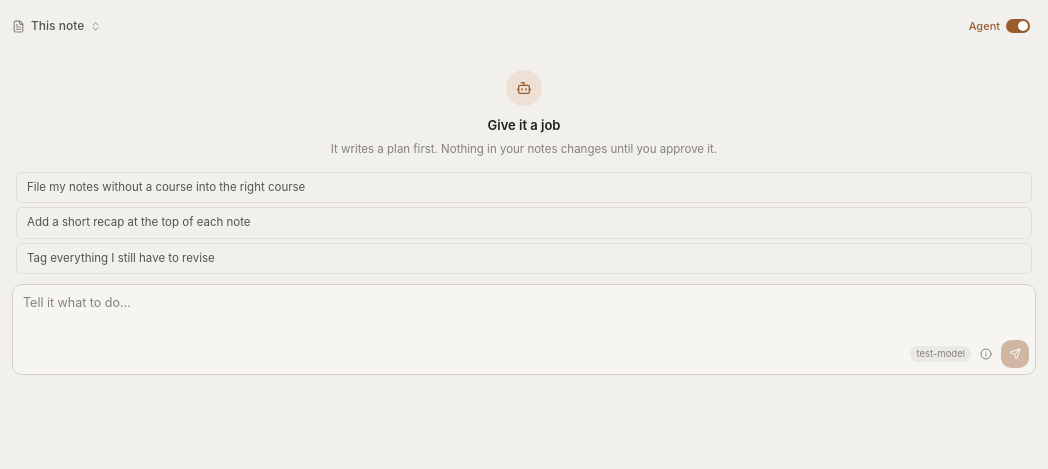
AgentPanel review gate › offers explicit widening when the plan requires the whole library
Type "Create an Environment course" into the text box named "Agent".
click(524, 313); type("Create an Environment course")  # box [19,291,1029,336]
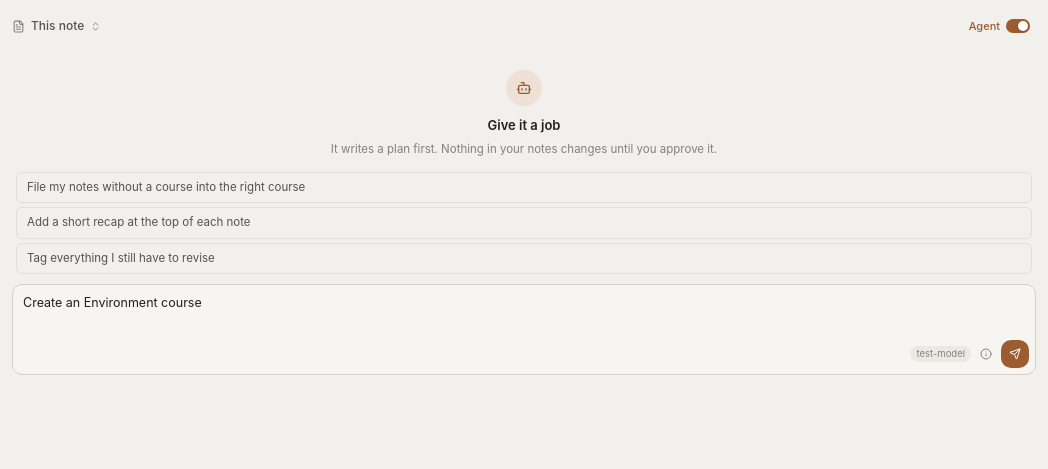
Click the button named "Start".
click(1015, 354)  # box [1001,340,1029,368]
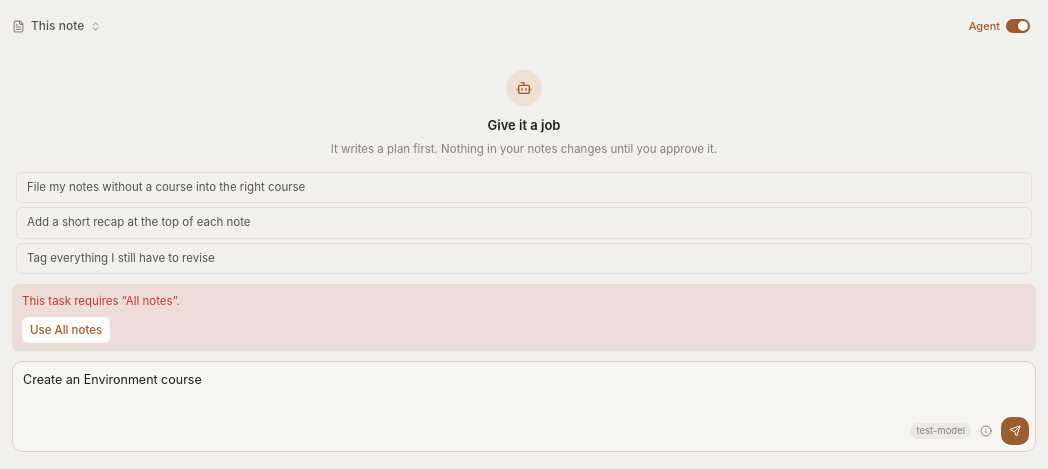
Expected: the message shows "This task requires “All notes”.", [22,294,180,308]
Click the button "Use All notes".
click(66, 330)  # box [22,317,110,343]
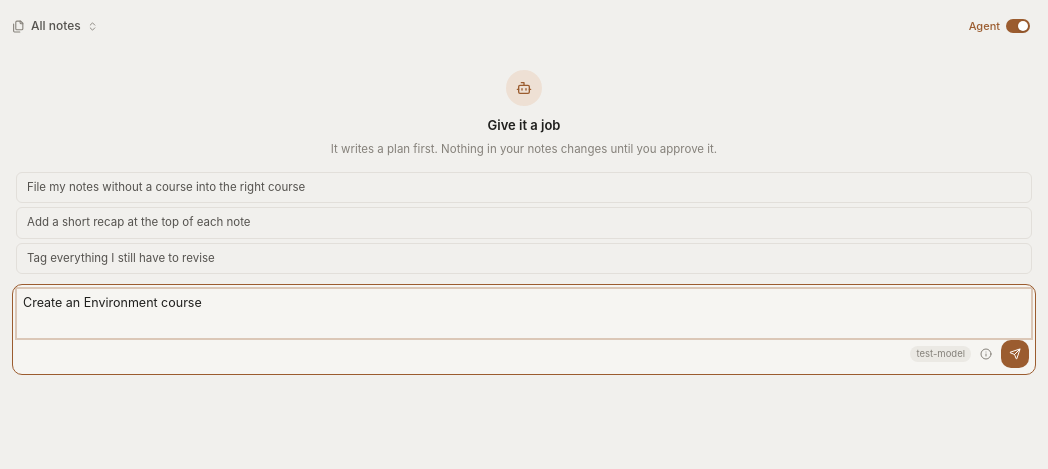
Expected: the message "This task requires “All notes”. Use All notes" is gone
